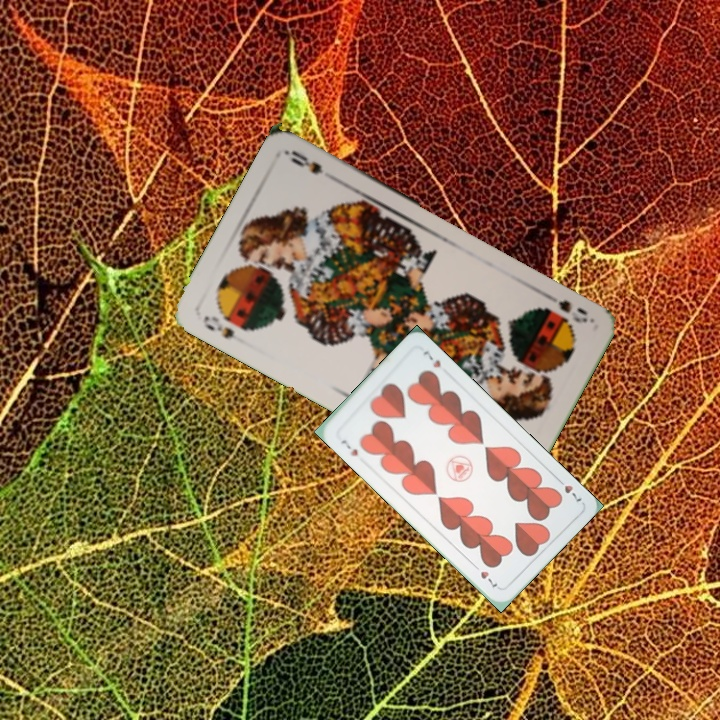H7: (552, 473, 584, 506), (337, 435, 361, 459)
SO: (538, 288, 590, 326), (199, 311, 237, 341)
